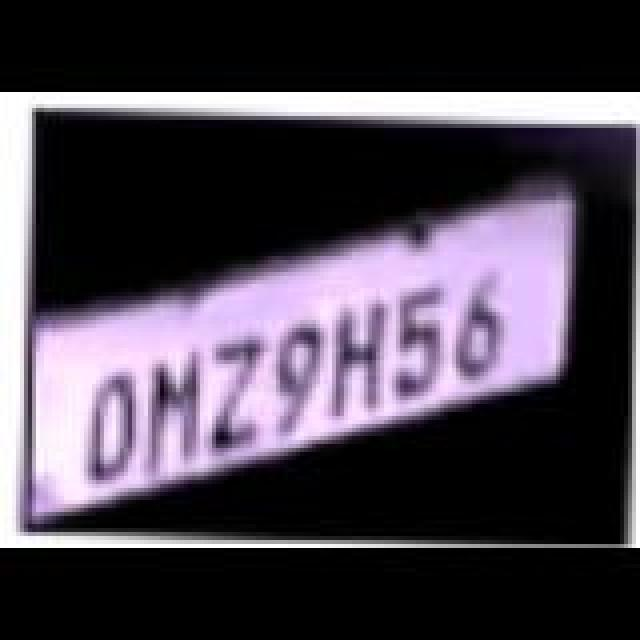5: (390, 284, 458, 404)
6: (450, 270, 518, 386)
9: (266, 320, 334, 440)
H: (328, 298, 400, 422)
M: (134, 352, 210, 480)
O: (76, 368, 148, 488)
Z: (194, 334, 270, 458)
